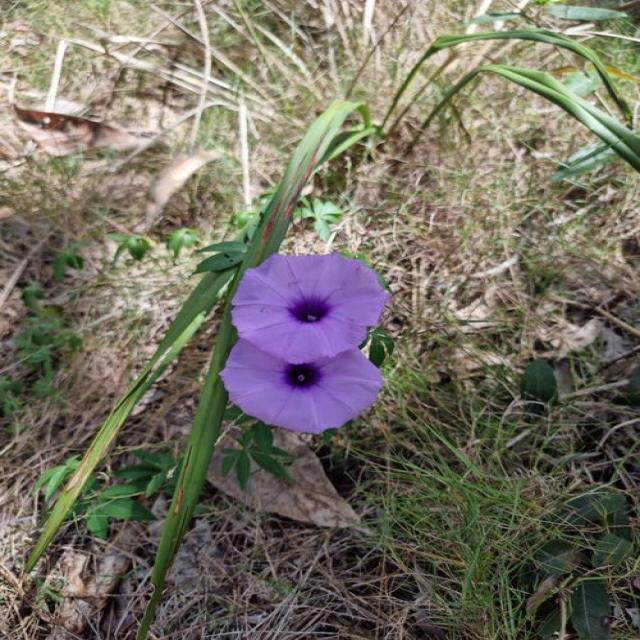ipomoea: (225, 250, 392, 366), (215, 336, 387, 436)
